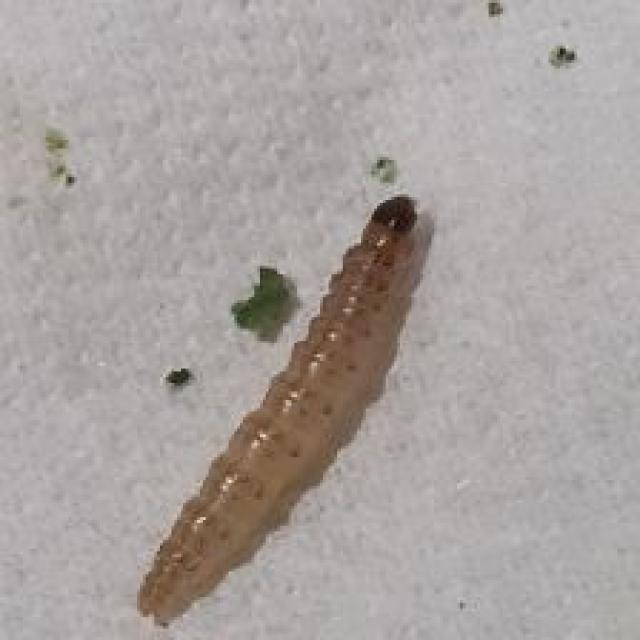white mucus: (112, 199, 480, 635)
